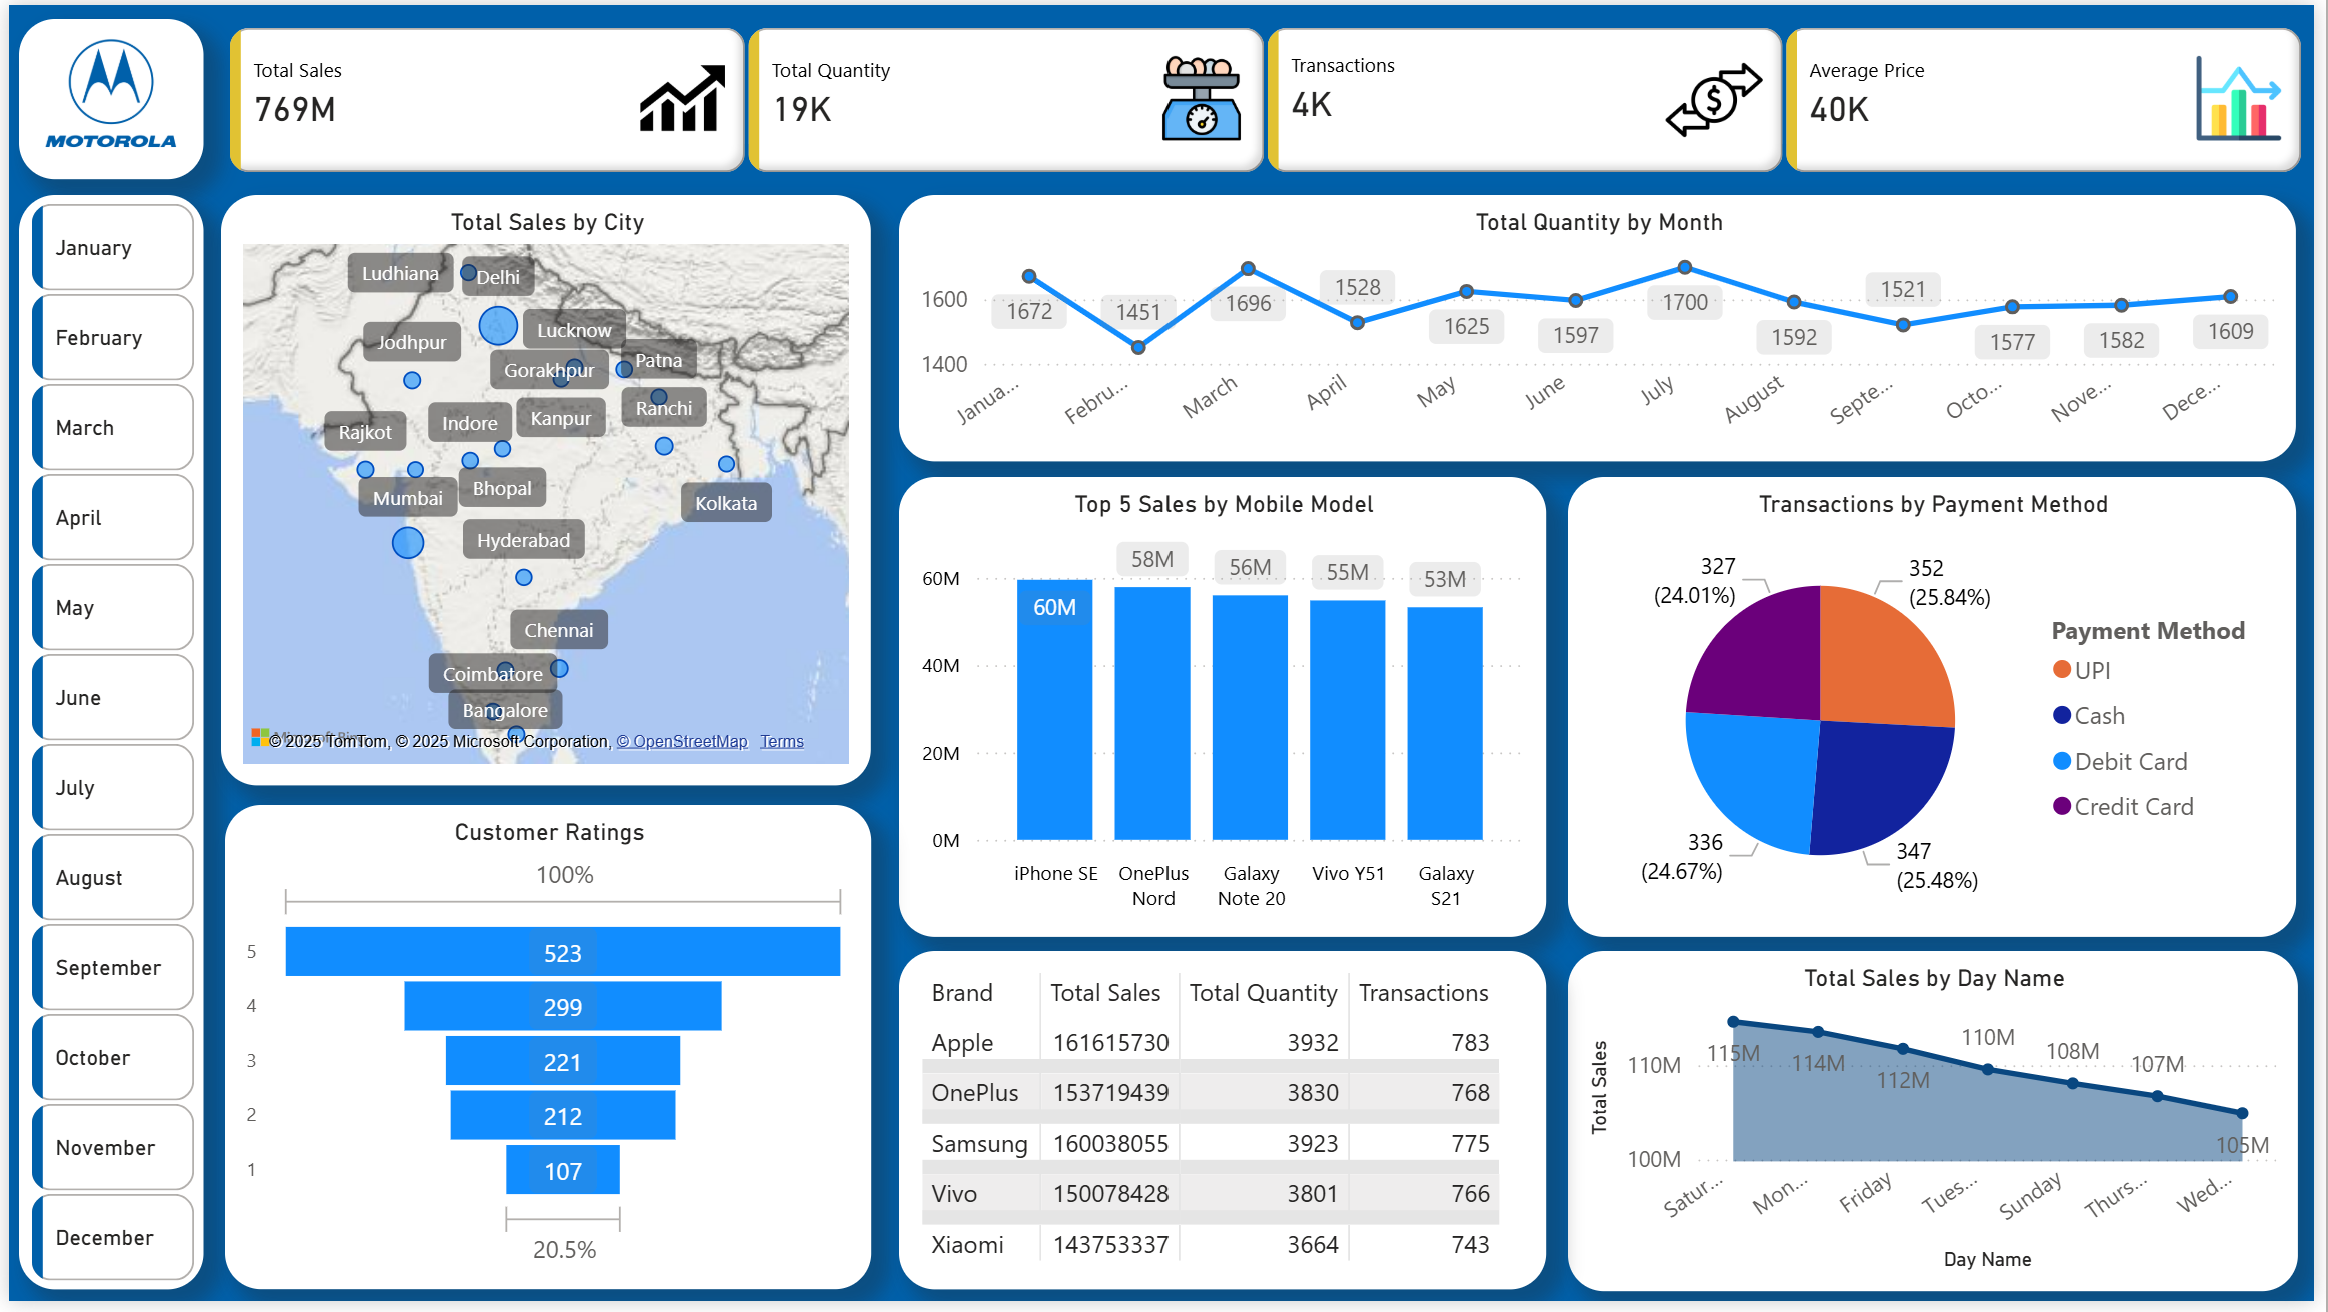

Layout of this report page (visuals, bound fields, positions):
{"tool":"powerbi","page":{"name":"Page 1","canvas":[1280,720],"ordinal":0},"visuals":[{"type":"shape","box":[5.5,7.7,102.3,89.1],"z":0},{"type":"image","box":[13.2,7.7,86.9,82.5],"z":1000},{"type":"shape","box":[5.5,105.6,102.3,608.1],"z":2000},{"type":"advancedSlicerVisual","fields":{"Values":["Mobile_Sales_Data.Date.Variation.Date Hierarchy.Month"]},"box":[7.7,105.6,100.1,609.2],"z":3000},{"type":"cardVisual","fields":{"Data":["Mobile_Sales_Data.Total Sales","Mobile_Sales_Data.Total Quantity","Mobile_Sales_Data.Transactions","Mobile_Sales_Data.Average Price"]},"box":[117.8,7.8,1162.2,90],"z":4000},{"type":"map","fields":{"Category":["Mobile_Sales_Data.City"],"Size":["Mobile_Sales_Data.Total Sales"]},"box":[117.8,105.6,361.1,327.8],"z":5000},{"type":"lineChart","fields":{"Y":["Mobile_Sales_Data.Total Quantity"],"Category":["Mobile_Sales_Data.Date.Variation.Date Hierarchy.Month","Mobile_Sales_Data.Date.Variation.Date Hierarchy.Day"]},"box":[494.4,105.6,775.6,147.8],"z":6000},{"type":"clusteredColumnChart","title":"Top 5 Sales by Mobile Model","fields":{"Category":["Mobile_Sales_Data.Mobile Model"],"Y":["Mobile_Sales_Data.Total Sales"]},"box":[494.4,262.2,358.9,255.6],"z":7000},{"type":"pieChart","title":"Transactions  by Payment Method","fields":{"Category":["Mobile_Sales_Data.Payment Method"],"Y":["Mobile_Sales_Data.Transactions"]},"box":[865.6,262.2,404.4,255.6],"z":8000},{"type":"funnel","title":"Customer Ratings","fields":{"Category":["Mobile_Sales_Data.Customer Ratings"],"Y":["CountNonNull(Mobile_Sales_Data.Customer Ratings)"]},"box":[120,444.4,358.9,268.9],"z":8001},{"type":"areaChart","fields":{"Category":["Mobile_Sales_Data.Day Name"],"Y":["Mobile_Sales_Data.Total Sales"]},"box":[865.6,525.6,405.6,188.9],"z":8002},{"type":"tableEx","fields":{"Values":["Mobile_Sales_Data.Brand","Mobile_Sales_Data.Total Sales","Mobile_Sales_Data.Total Quantity","Mobile_Sales_Data.Transactions"]},"box":[494.4,525.6,358.9,187.8],"z":8003}]}

Visuals, with their boxes in screenshot pixels (x1, y1, x2, y2), scaled from the page's 1280x720 canvas onto the 2328x1312 screenshot:
shape: crop(10, 14, 196, 176)
image: crop(24, 14, 182, 164)
shape: crop(10, 192, 196, 1301)
advancedSlicerVisual - Mobile_Sales_Data.Date.Variation.Date Hierarchy.Month: crop(14, 192, 196, 1303)
cardVisual - Mobile_Sales_Data.Total Sales x Mobile_Sales_Data.Total Quantity: crop(214, 14, 2327, 178)
map - Mobile_Sales_Data.City x Mobile_Sales_Data.Total Sales: crop(214, 192, 871, 790)
lineChart - Mobile_Sales_Data.Total Quantity x Mobile_Sales_Data.Date.Variation.Date Hierarchy.Month: crop(899, 192, 2310, 462)
"Top 5 Sales by Mobile Model" clusteredColumnChart: crop(899, 478, 1552, 944)
"Transactions  by Payment Method" pieChart: crop(1574, 478, 2310, 944)
"Customer Ratings" funnel: crop(218, 810, 871, 1300)
areaChart - Mobile_Sales_Data.Day Name x Mobile_Sales_Data.Total Sales: crop(1574, 958, 2312, 1302)
tableEx - Mobile_Sales_Data.Brand x Mobile_Sales_Data.Total Sales: crop(899, 958, 1552, 1300)
